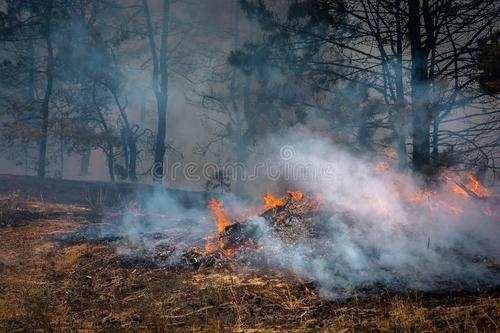fire: (353, 150, 496, 214), (197, 184, 315, 255)
